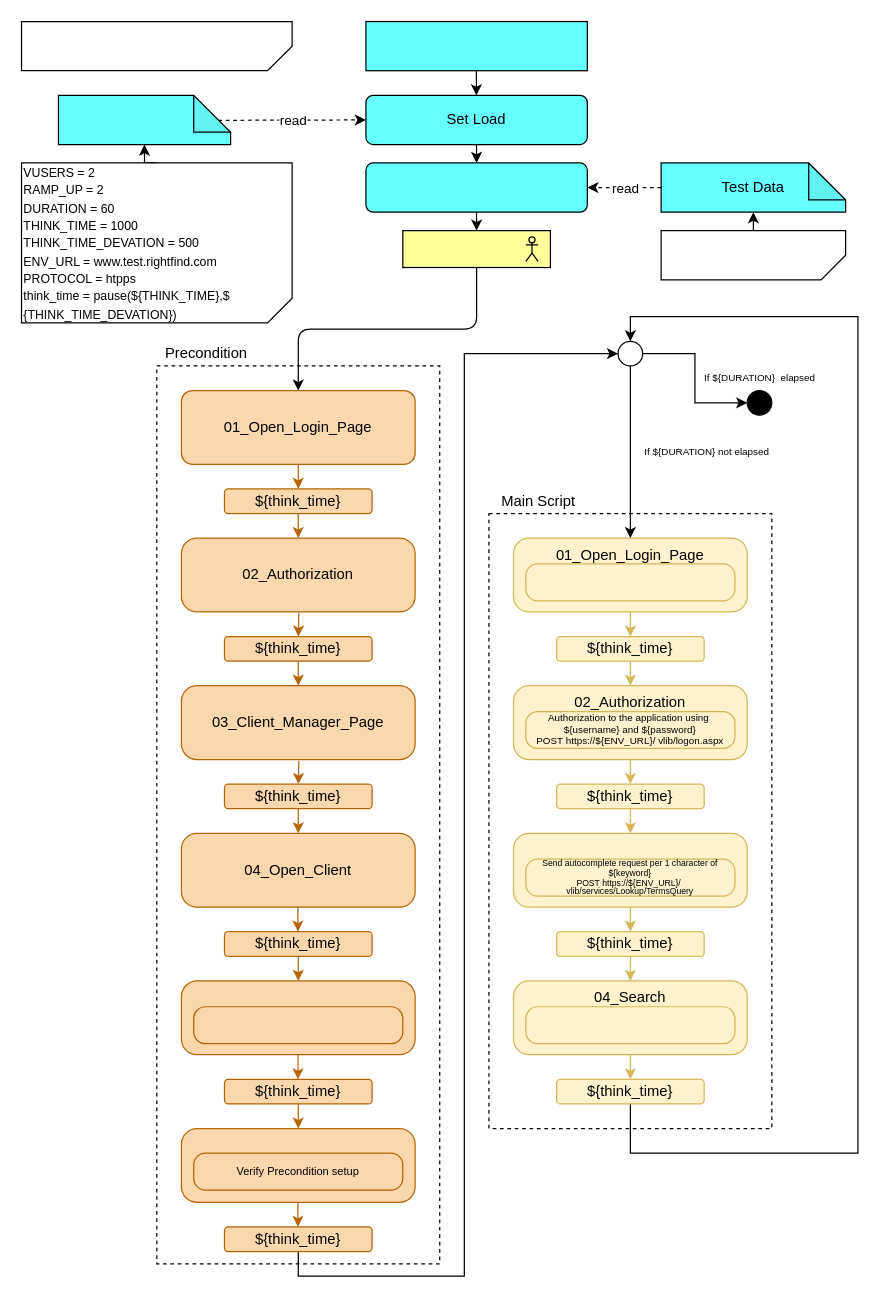
This 889x1307 diagram has some shape labels left out. Each missing label, with the box of its shape:
"RightFind Insight" check "Full-text Search" check "Semantic Search" uncheck: (192, 1006, 403, 1044)
03_Autocomplete: (512, 832, 747, 907)
05_Client_Update: (180, 980, 415, 1055)
06_Open_Client_Verify: (180, 1127, 415, 1202)
5_2_RFE_UI_Search_ Regular_Search_Full_Text: (20, 20, 292, 71)
Load Model: (57, 94, 231, 145)
Open application main page - GET https://${ENV_URL}/: (525, 563, 735, 601)
Search for specific ${keyword} GET https://${ENV_URL}/vlib/order/ordersearch.apx: (525, 1006, 735, 1044)
searchphrase = ${searchphrase} username = ${username} password = ${password}: (660, 229, 846, 280)
Set Test Data: (365, 162, 587, 212)
Start Test: (365, 20, 587, 71)
vUser: (402, 229, 550, 268)
